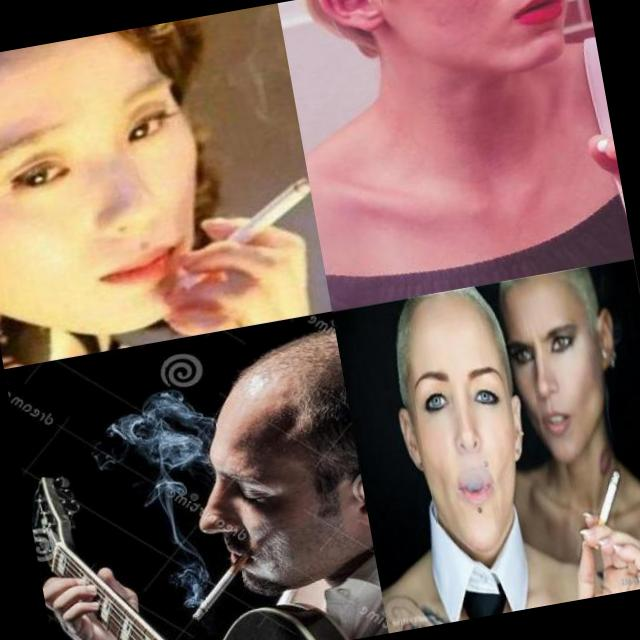smoke: (175, 174, 322, 284), (179, 540, 267, 626), (580, 466, 632, 552), (586, 128, 616, 162)
